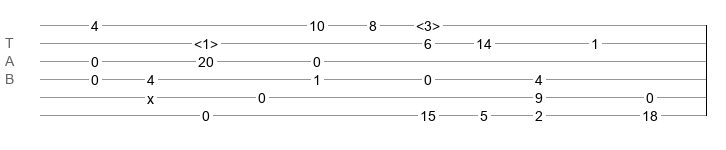0: (91, 54, 99, 64), (91, 72, 99, 82), (202, 108, 210, 118), (258, 90, 266, 100), (313, 54, 321, 64), (424, 72, 432, 82), (646, 90, 654, 100)
1: (313, 72, 321, 82), (591, 36, 599, 46)
10: (309, 18, 325, 28)
14: (476, 36, 492, 46)
15: (420, 108, 436, 118)
18: (642, 108, 658, 118)
2: (535, 108, 543, 118)
20: (198, 54, 214, 64)
4: (91, 18, 99, 28), (147, 72, 155, 82), (535, 72, 543, 82)
5: (480, 108, 488, 118)
6: (424, 36, 432, 46)
8: (369, 18, 377, 28)
9: (535, 90, 543, 100)
harmonic: (194, 36, 218, 46), (416, 18, 440, 28)
x: (147, 91, 154, 99)
